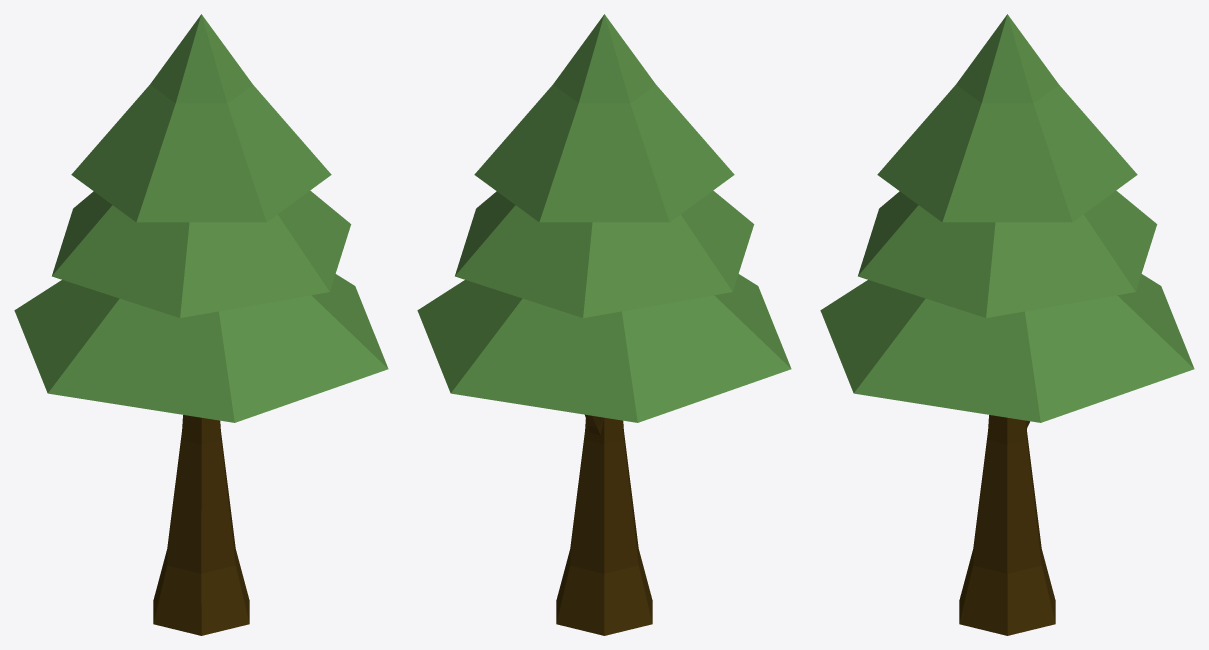
File: Tree_2.fbx
3 views of the same model, side by side, from view 1: azimuth 30°, elevation 25°; view 2: azimuth 150°, elevation 25°; view 3: azimuth 270°, elevation 25° (orthographic).
Parts seen in each view (by area): view 1: Tree_2; view 2: Tree_2; view 3: Tree_2.
Part boxes in pixels (left/top/right/bottom): Tree_2: left=14, top=14, right=388, bottom=635; Tree_2: left=417, top=14, right=791, bottom=635; Tree_2: left=820, top=14, right=1194, bottom=635.
Size of the model in its own units: 7.08 by 11.88 by 6.73.
